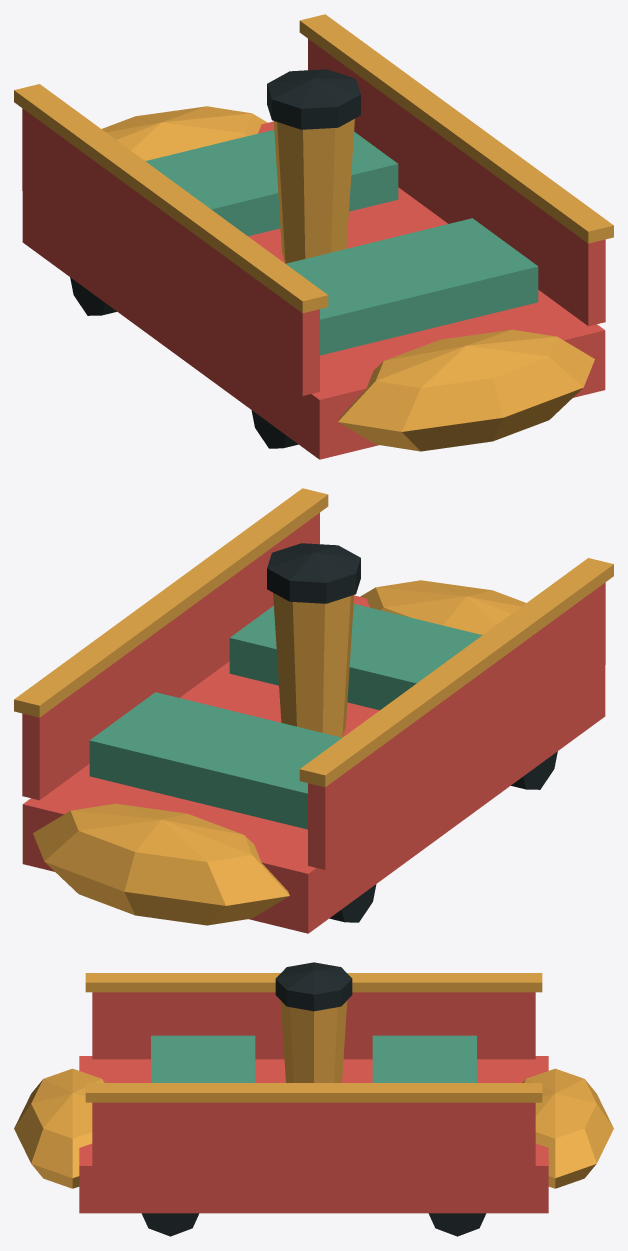
File: ParkParkTrainCar.obj
3 views of the same model, one above another, from view 1: azimuth 30°, elevation 25°; view 2: azimuth 150°, elevation 25°; view 3: azimuth 270°, elevation 25° (orthographic). The views are drawn at different scales.
Visible parts, largest first — view 1: ParkParkTrainCar; view 2: ParkParkTrainCar; view 3: ParkParkTrainCar.
Part boxes in pixels (x1=…): ParkParkTrainCar: x1=14, y1=14, x2=613, y2=459; ParkParkTrainCar: x1=14, y1=488, x2=613, y2=933; ParkParkTrainCar: x1=14, y1=962, x2=613, y2=1236.
Size of the model in its own units: 2.18 by 1.81 by 4.6.
